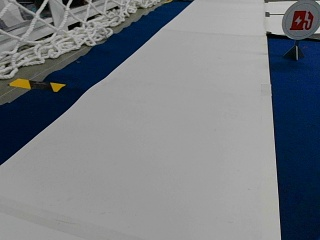battery: (281, 0, 319, 39)
